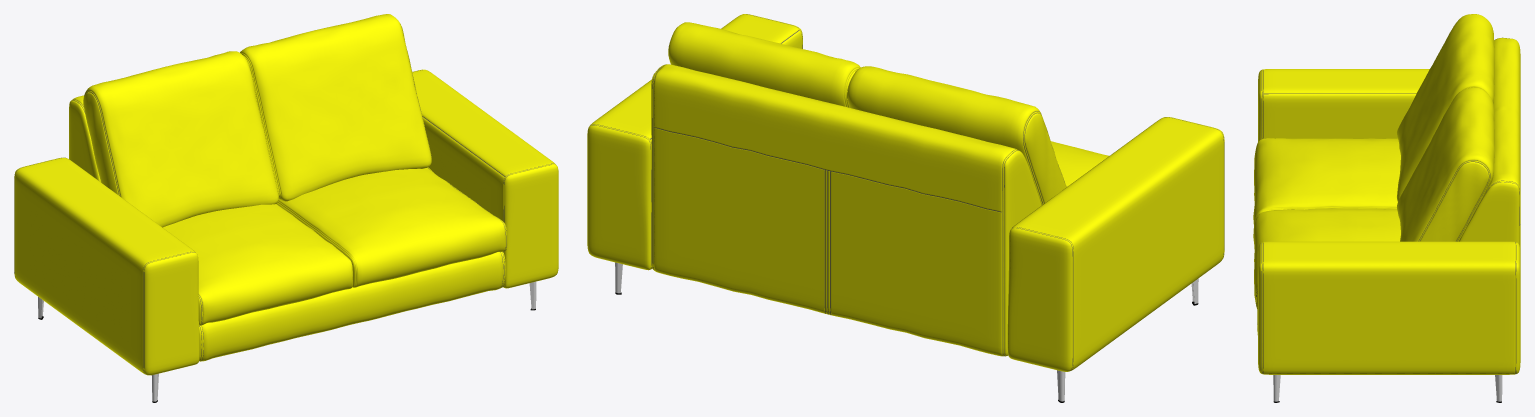
3 renders of one model, left to right at view 1: azimuth 30°, elevation 25°; view 2: azimuth 150°, elevation 25°; view 3: azimuth 270°, elevation 25°, orthographic. The views are drawn at different scales.
Visible parts, largest first — view 1: bodygray35, rightarm35, leftarm35, metaleg35; view 2: bodygray35, rightarm35, leftarm35, metaleg35; view 3: bodygray35, leftarm35, rightarm35, metaleg35.
Part boxes in pixels (x1=…): bodygray35: x1=69, y1=14, x2=507, y2=361; rightarm35: x1=14, y1=157, x2=199, y2=375; leftarm35: x1=412, y1=69, x2=558, y2=288; metaleg35: x1=38, y1=281, x2=536, y2=402; bodygray35: x1=651, y1=22, x2=1108, y2=356; rightarm35: x1=1007, y1=117, x2=1224, y2=371; leftarm35: x1=587, y1=14, x2=802, y2=270; metaleg35: x1=615, y1=262, x2=1198, y2=402; bodygray35: x1=1253, y1=14, x2=1520, y2=334; leftarm35: x1=1258, y1=241, x2=1520, y2=374; rightarm35: x1=1258, y1=69, x2=1429, y2=141; metaleg35: x1=1273, y1=375, x2=1502, y2=402.
Bounding box in the file's own units: 1.64 × 0.8754 × 0.9321.
Materials: 8 (5 with a texture image).
